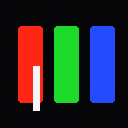4 line_v: (33, 66, 39, 110)
